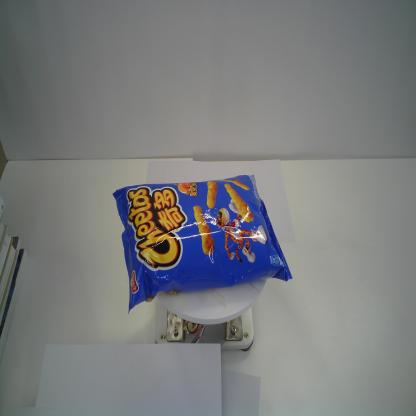Puffed Food: (112, 173, 293, 316)
